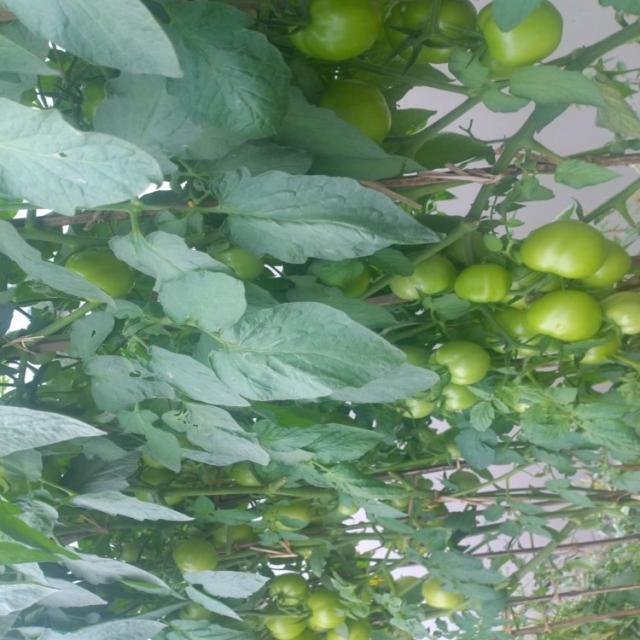tomato: (517, 207, 603, 285), (286, 1, 388, 64), (392, 5, 482, 76), (477, 1, 568, 70), (324, 70, 399, 142), (62, 237, 138, 303), (518, 292, 601, 349), (388, 251, 457, 307), (582, 223, 627, 290), (455, 258, 512, 306), (433, 338, 485, 387), (216, 234, 266, 284), (489, 311, 536, 363), (430, 377, 476, 423), (601, 281, 640, 335), (302, 592, 346, 637), (264, 493, 307, 538), (137, 462, 184, 502), (172, 534, 219, 573), (392, 389, 434, 431), (271, 572, 315, 607), (416, 579, 453, 618), (447, 464, 477, 508), (264, 611, 305, 640)
